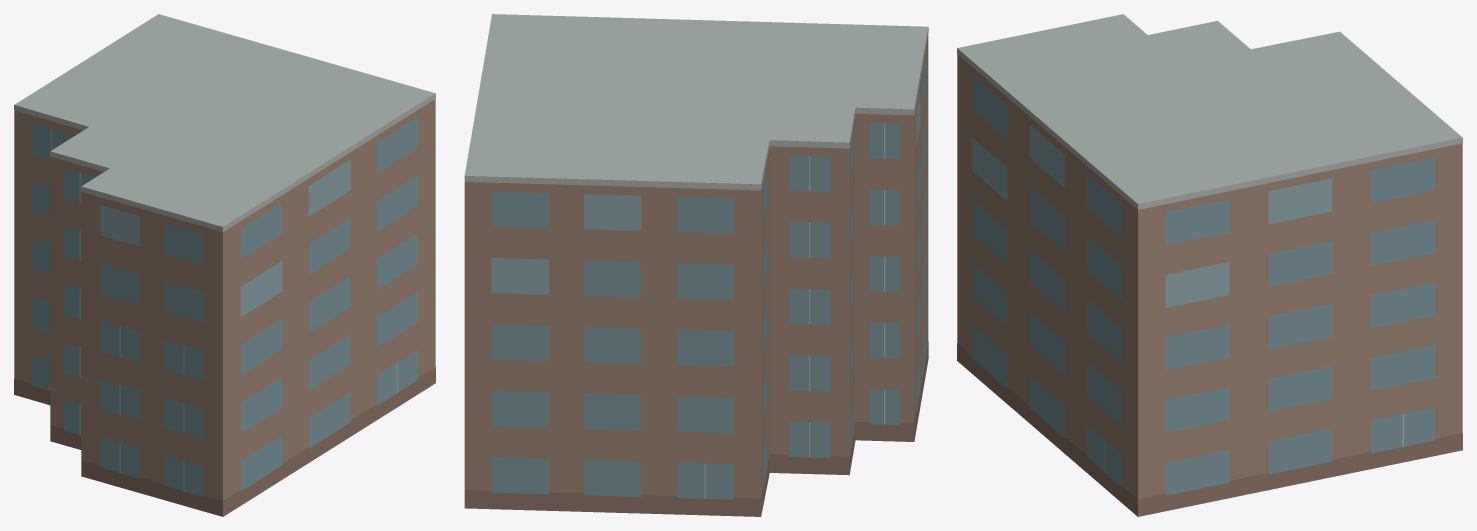
File: survey-upis-33036566.glb
3 renders of one model, left to right at view 1: azimuth 30°, elevation 25°; view 2: azimuth 150°, elevation 25°; view 3: azimuth 270°, elevation 25°, orthographic. The views are drawn at different scales.
Visible parts, largest first — view 1: survey-upis-33036566.tmp; view 2: survey-upis-33036566.tmp; view 3: survey-upis-33036566.tmp.
Boxes of the visible parts, box(x1,y1,x2,y2) form: survey-upis-33036566.tmp: box(14, 14, 435, 516); survey-upis-33036566.tmp: box(464, 14, 928, 516); survey-upis-33036566.tmp: box(957, 14, 1462, 516).
Size of the model in its own units: 17.49 by 13.4 by 19.65.
